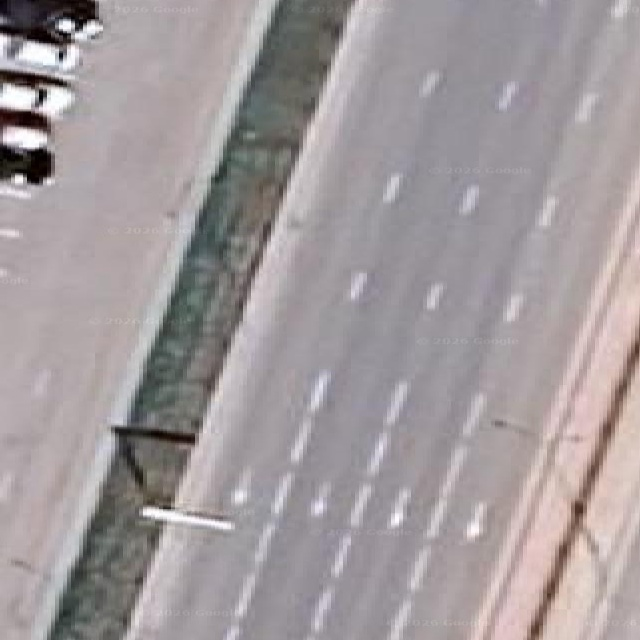car: (0, 0, 102, 41), (0, 109, 53, 185), (0, 26, 80, 73), (0, 70, 74, 119)
